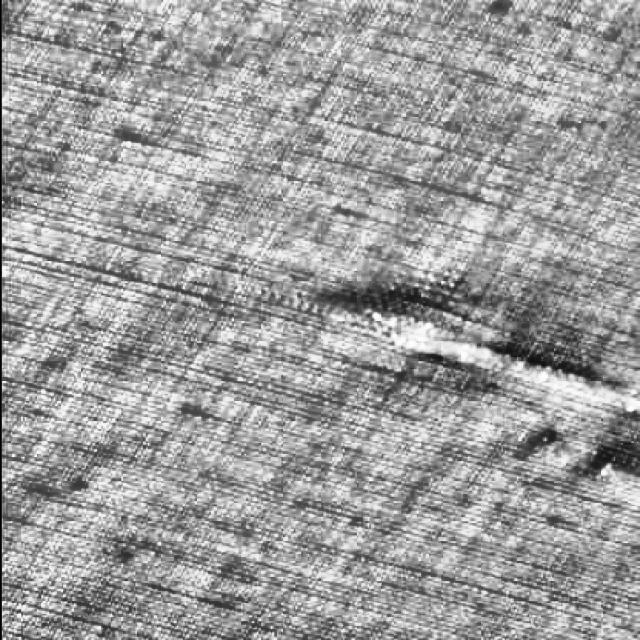thread_error: (286, 272, 640, 412), (491, 417, 640, 501)
